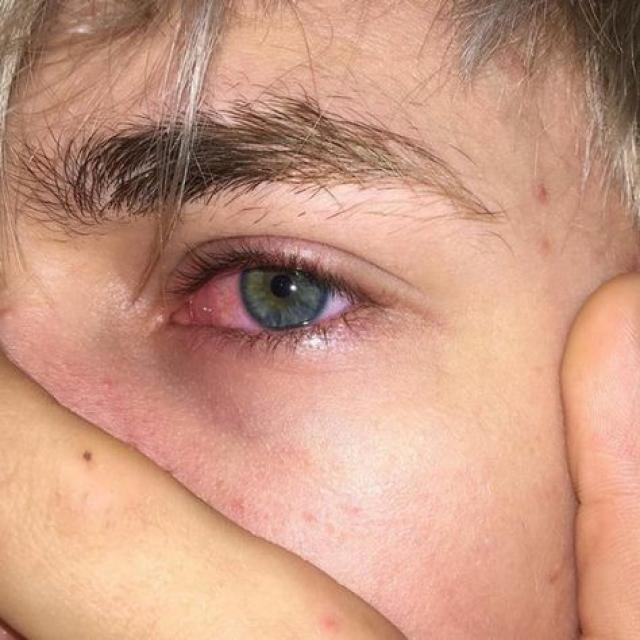eye: (144, 220, 423, 366)
gaze: (234, 251, 336, 334)
